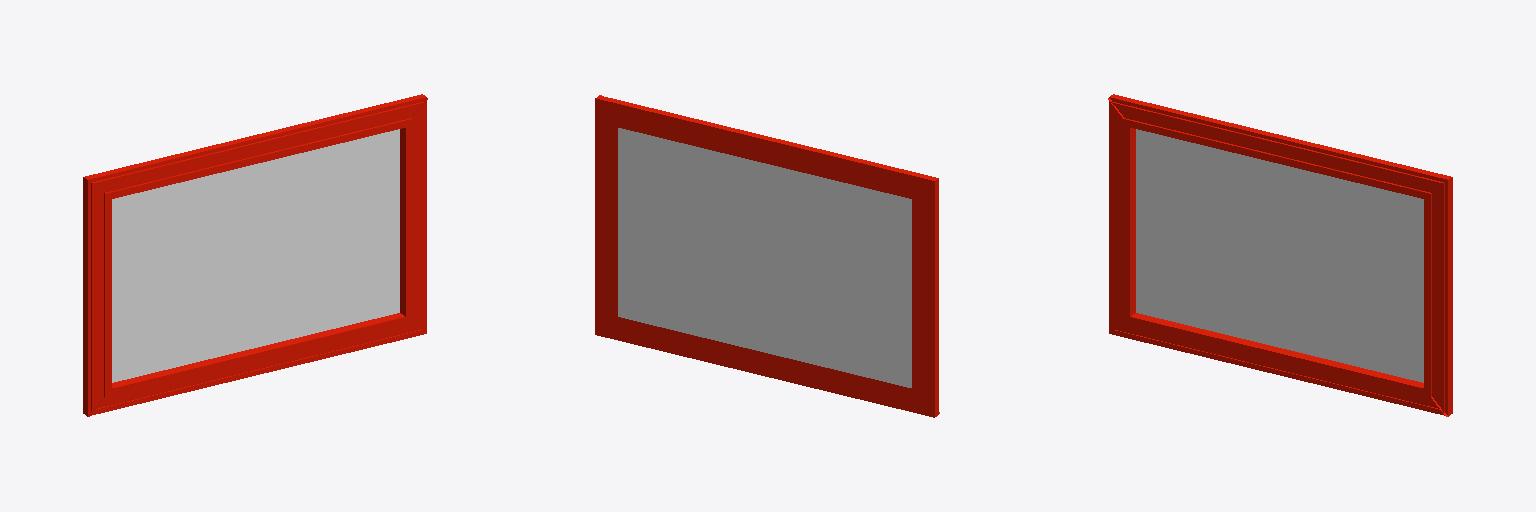
3 renders of one model, left to right at view 1: azimuth 30°, elevation 25°; view 2: azimuth 150°, elevation 25°; view 3: azimuth 330°, elevation 25°, orthographic.
Parts seen in each view (by area): view 1: mirror_001, Group_001; view 2: mirror_001, Group_001; view 3: mirror_001, Group_001.
Part boxes in pixels (left/top/right/bottom): mirror_001: left=112, top=129, right=399, bottom=382; Group_001: left=83, top=94, right=427, bottom=416; mirror_001: left=618, top=128, right=911, bottom=387; Group_001: left=595, top=95, right=939, bottom=417; mirror_001: left=1136, top=129, right=1423, bottom=382; Group_001: left=1108, top=94, right=1452, bottom=416.
Size of the model in its own units: 0.2419 by 0.1613 by 0.0071.
2 materials, 2 textured.